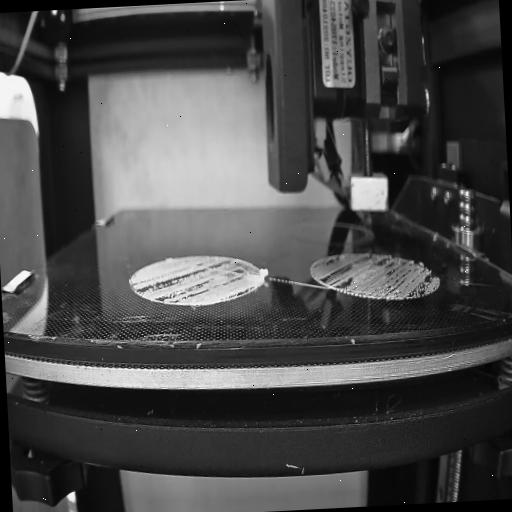under_extrusion: (314, 251, 438, 305), (130, 257, 256, 308)
